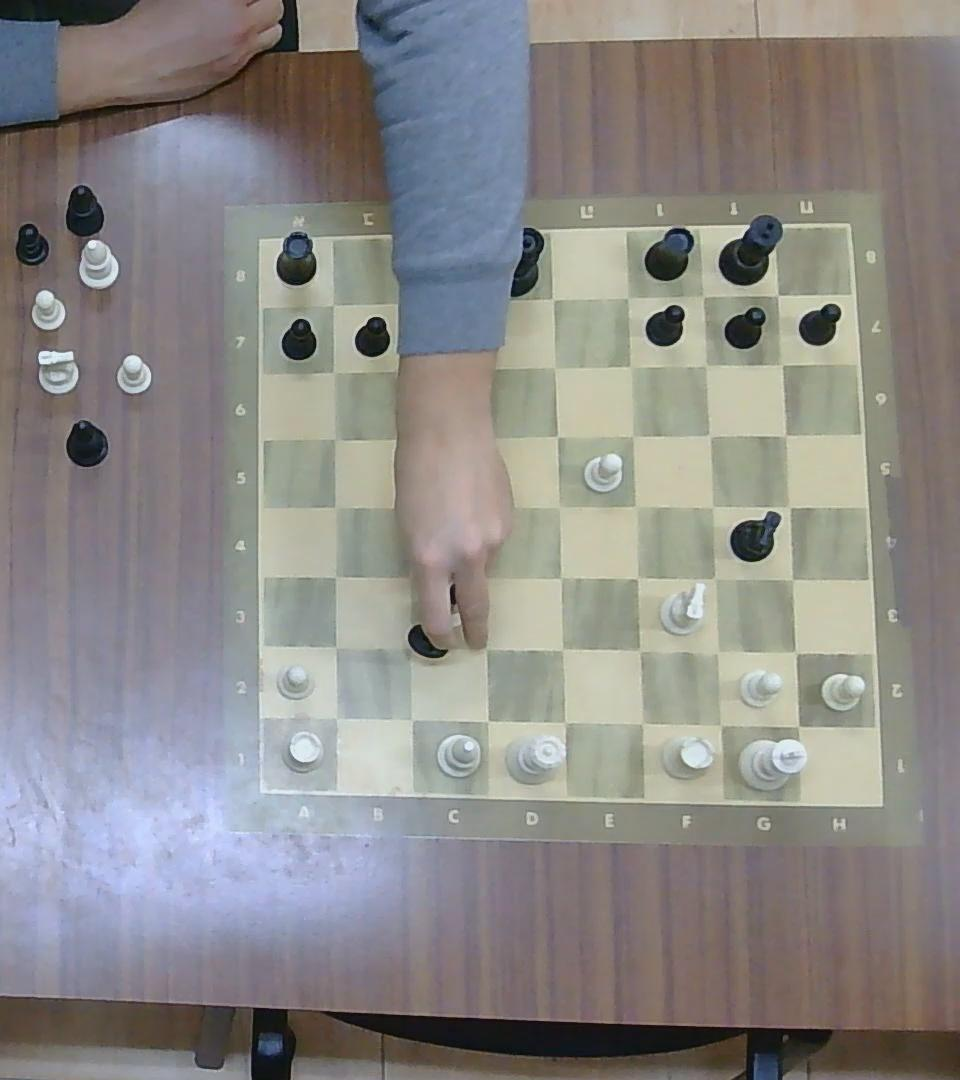xcorner: (624, 705, 658, 739), (702, 707, 736, 740), (781, 708, 813, 742), (466, 284, 500, 316), (779, 635, 812, 667), (700, 635, 732, 667), (548, 705, 579, 738), (624, 633, 655, 665), (470, 704, 501, 736), (547, 633, 578, 665), (776, 562, 807, 594), (469, 422, 500, 454), (393, 632, 424, 663), (395, 703, 425, 734), (320, 701, 350, 732), (469, 563, 500, 593), (394, 561, 424, 592), (320, 631, 350, 661), (384, 288, 414, 318), (622, 561, 651, 592), (699, 563, 728, 594), (471, 635, 501, 664), (547, 563, 576, 593), (621, 491, 651, 520), (698, 491, 727, 520), (775, 491, 804, 520), (615, 351, 644, 380), (472, 491, 500, 521), (320, 561, 349, 589), (614, 282, 642, 311), (317, 291, 345, 319), (617, 421, 645, 449), (318, 357, 345, 385), (545, 492, 573, 519), (538, 285, 566, 312), (695, 420, 723, 447), (390, 493, 416, 522), (321, 423, 347, 450), (692, 351, 719, 377), (544, 421, 570, 448), (321, 493, 349, 518), (690, 282, 716, 308), (768, 351, 794, 377), (772, 421, 798, 446), (765, 282, 791, 307), (384, 356, 409, 382), (474, 353, 500, 378), (541, 353, 566, 378), (390, 426, 414, 451)
